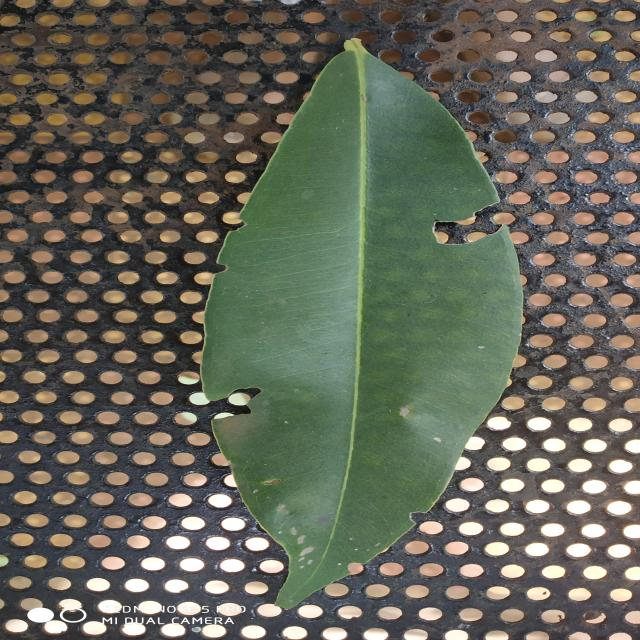nerale: (202, 39, 522, 608)
